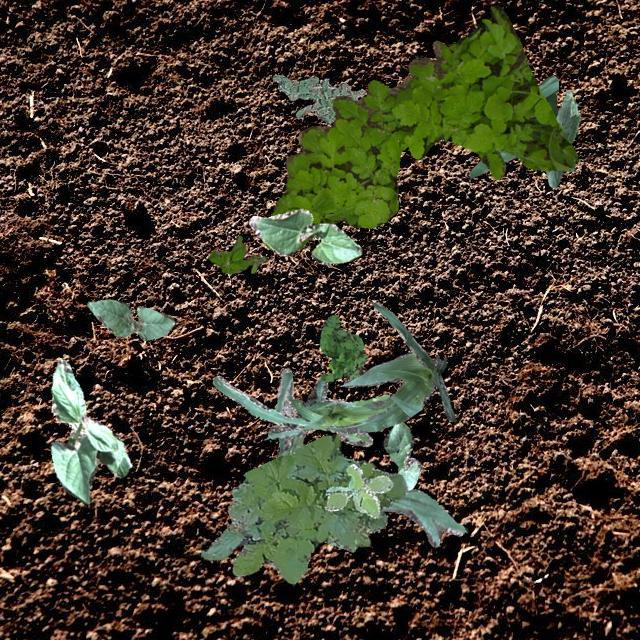crop: (274, 368, 464, 550), (328, 300, 454, 432), (212, 374, 388, 446), (50, 358, 130, 502), (468, 74, 558, 176), (248, 208, 360, 264), (86, 298, 174, 339), (545, 90, 579, 186), (382, 420, 420, 490)
weed: (272, 3, 578, 245), (200, 433, 406, 582), (272, 74, 364, 122), (324, 462, 392, 516), (318, 314, 366, 381), (208, 235, 266, 272)
